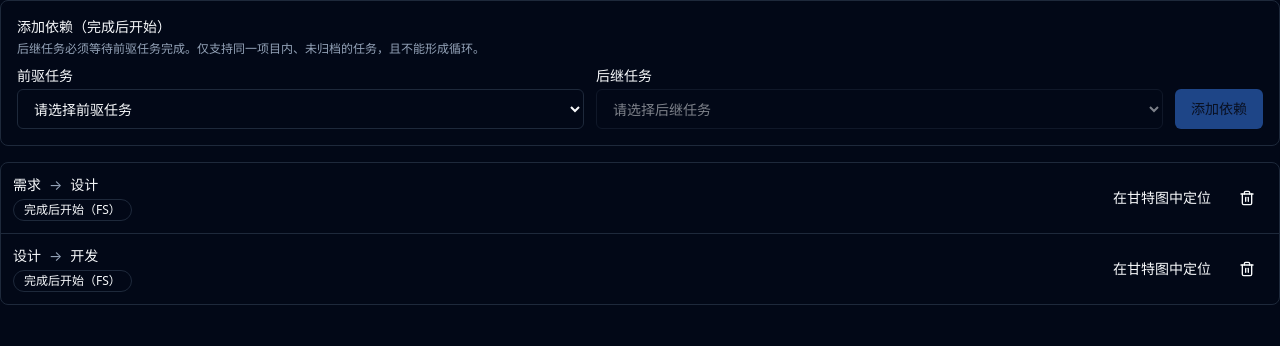
DependencySection — candidate filtering › excludes itself, archived, already-linked and cycle-forming successors
Select "需求" in the dropdown labelled "前驱任务" at (300, 109), box [17, 89, 584, 129]
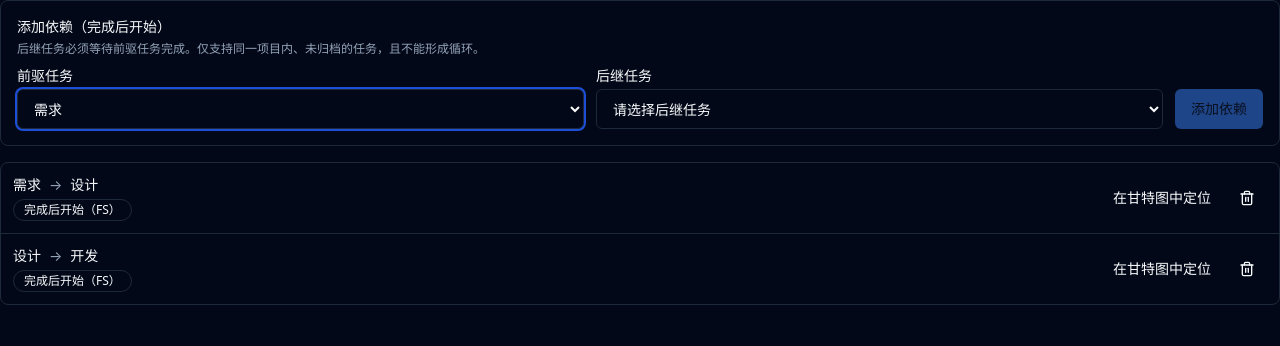
Select "开发" in the dropdown labelled "前驱任务" at (300, 109), box [17, 89, 584, 129]
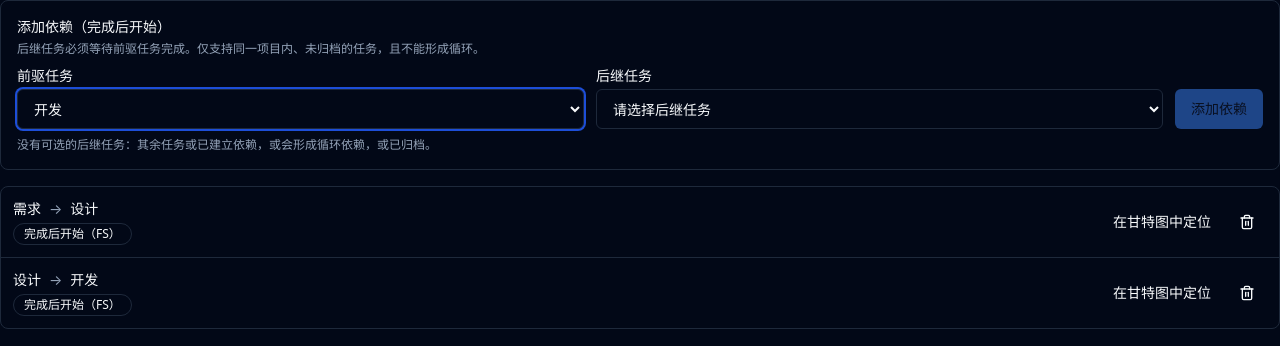
Result: the text "没有可选的后继任务：其余任务或已建立依赖，或会形成循环依赖，或已归档。" is shown at [17, 136, 437, 153]
